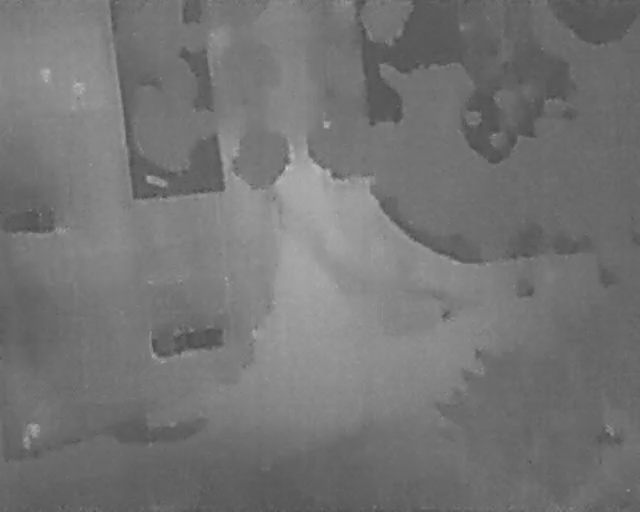Car: (148, 316, 227, 361), (1, 207, 56, 233)
